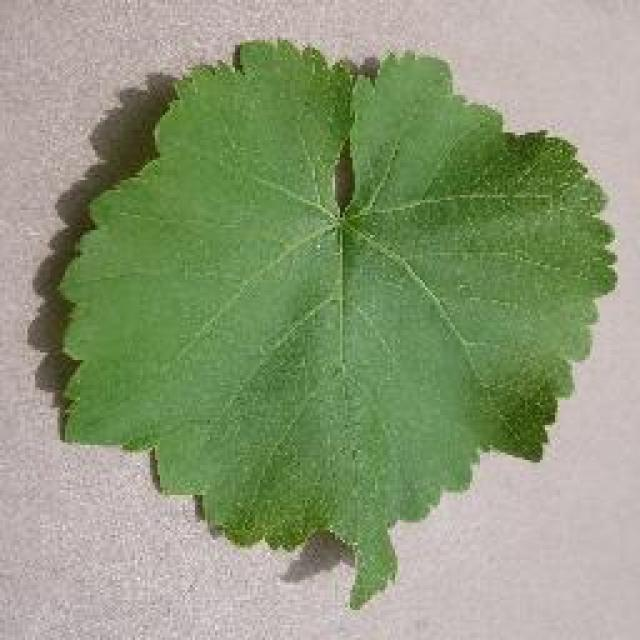Grape___healthy: (62, 40, 615, 605)
